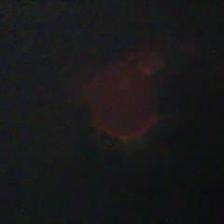fertile: (89, 62, 159, 145)
